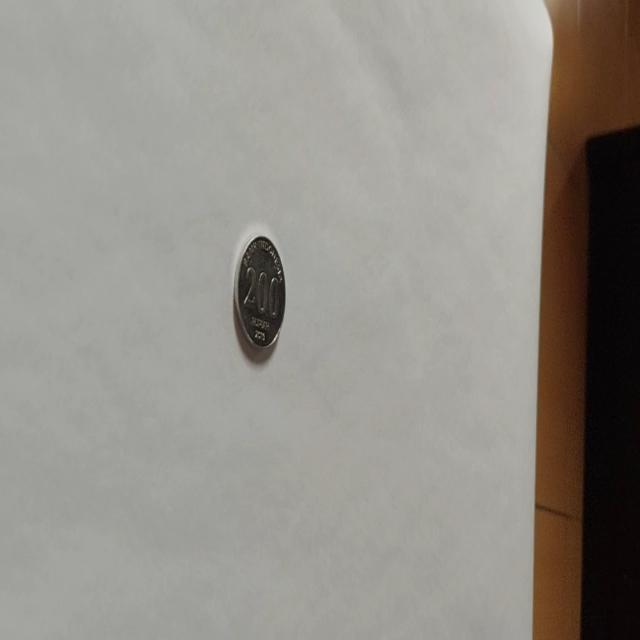dua ratus rupiah: (232, 232, 286, 352)
